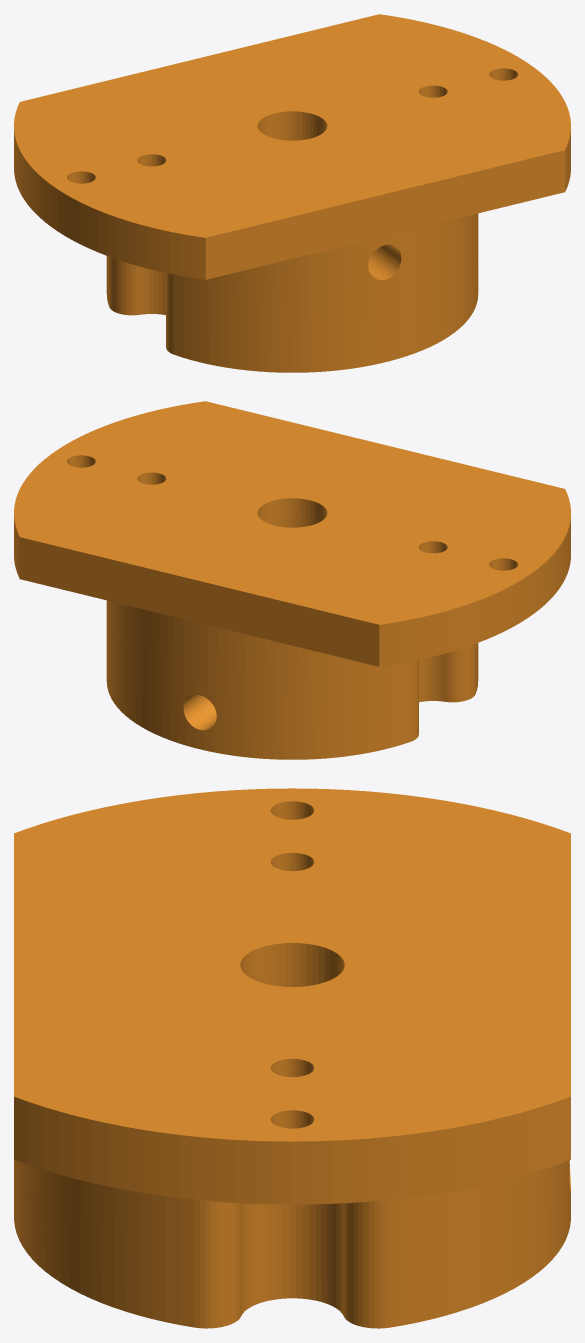
3 views of the same model, one above another, from view 1: azimuth 30°, elevation 25°; view 2: azimuth 150°, elevation 25°; view 3: azimuth 270°, elevation 25° (orthographic). The views are drawn at different scales.
Parts seen in each view (by area): view 1: J6 gripper mount; view 2: J6 gripper mount; view 3: J6 gripper mount.
Part boxes in pixels (x1,y1,x2,y2): J6 gripper mount: [14, 14, 570, 372]; J6 gripper mount: [14, 401, 570, 759]; J6 gripper mount: [14, 788, 570, 1328].
Bounding box in the file's own units: 0.048 × 0.032 × 0.016.
